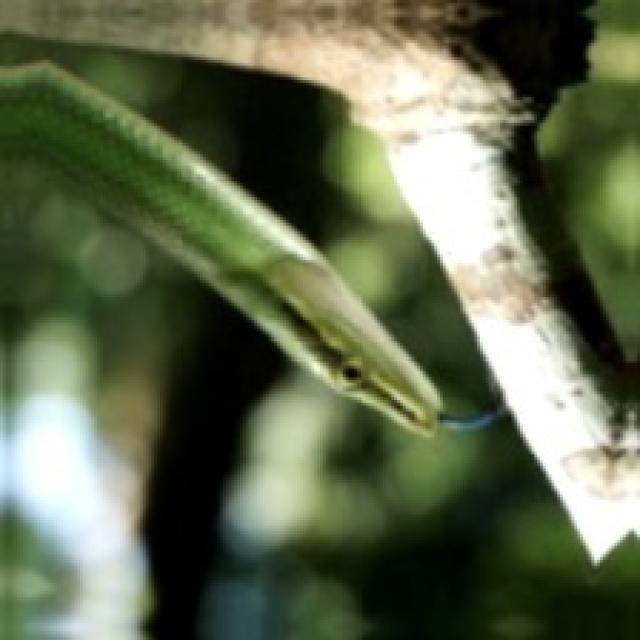red-tailed green ratsnake: (0, 63, 440, 431)
